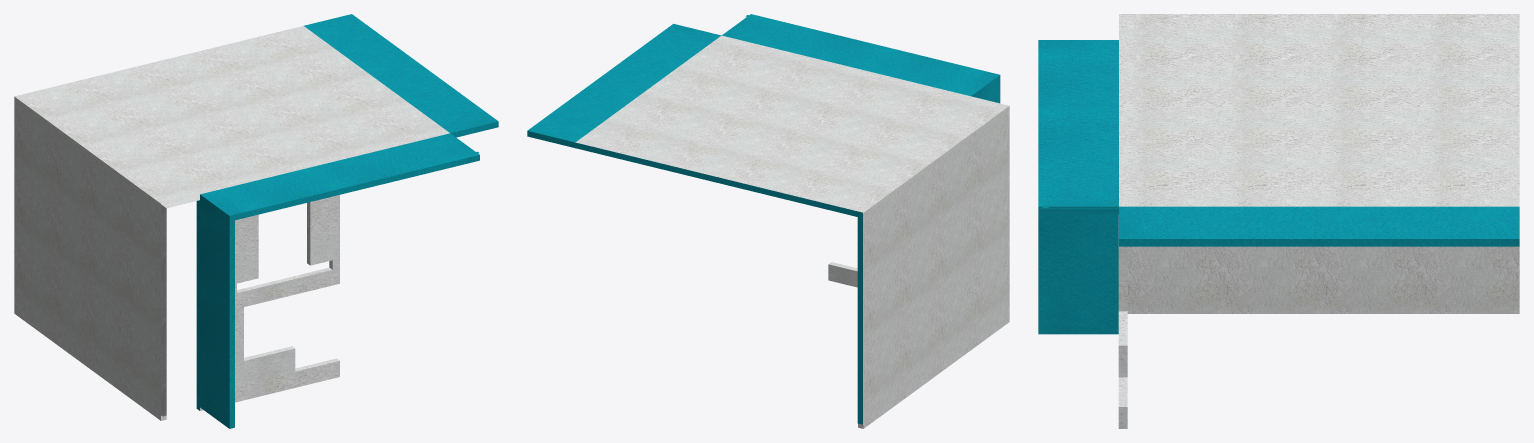
The model's file is paredesE.obj.
3 renders of one model, left to right at view 1: azimuth 30°, elevation 25°; view 2: azimuth 150°, elevation 25°; view 3: azimuth 270°, elevation 25°, orthographic. The views are drawn at different scales.
Parts seen in each view (by area): view 1: paredesE:polySurface13; view 2: paredesE:polySurface13; view 3: paredesE:polySurface13.
Part boxes in pixels (x1,y1,x2,y2): paredesE:polySurface13: (14, 14, 498, 428); paredesE:polySurface13: (527, 14, 1009, 428); paredesE:polySurface13: (1038, 14, 1519, 428).
Size of the model in its own units: 9.17 by 5.64 by 8.3.
3 materials, 3 textured.
